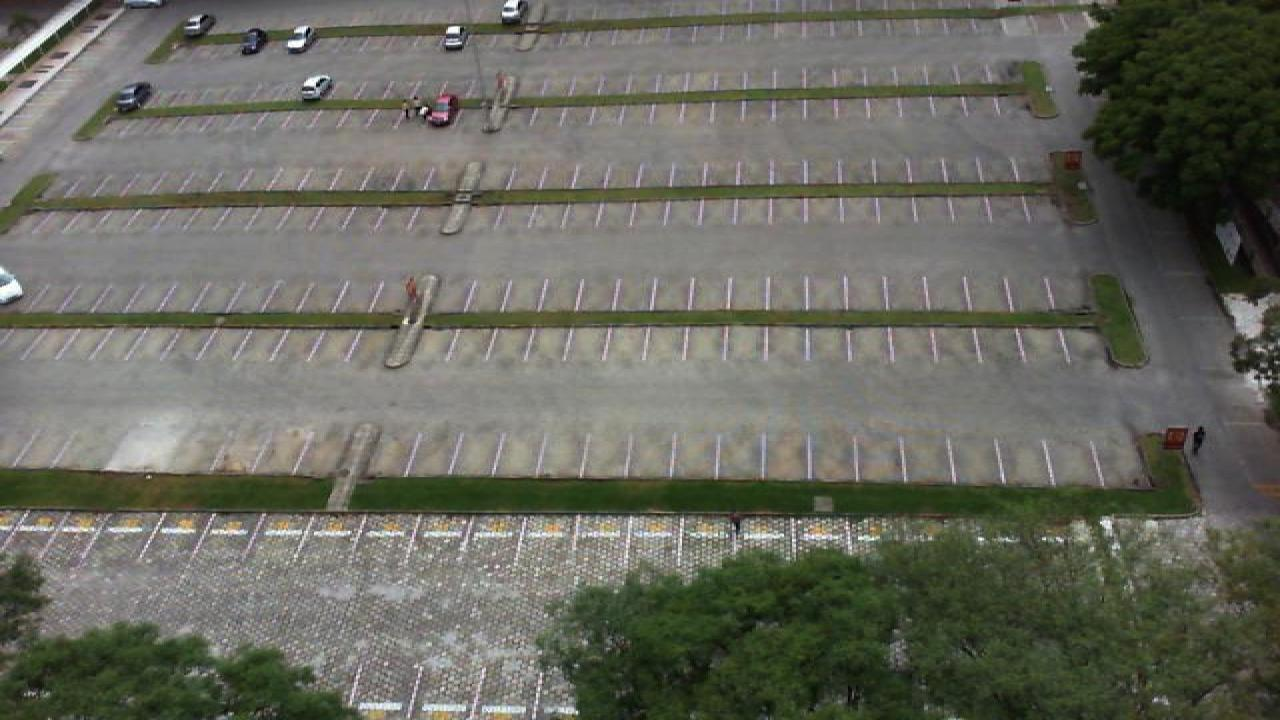Car: (422, 92, 460, 127), (112, 81, 154, 111), (298, 74, 334, 102), (0, 264, 24, 305), (284, 25, 316, 52), (182, 13, 216, 38), (240, 28, 268, 55), (498, 0, 528, 25), (442, 25, 468, 50), (122, 0, 166, 8)
